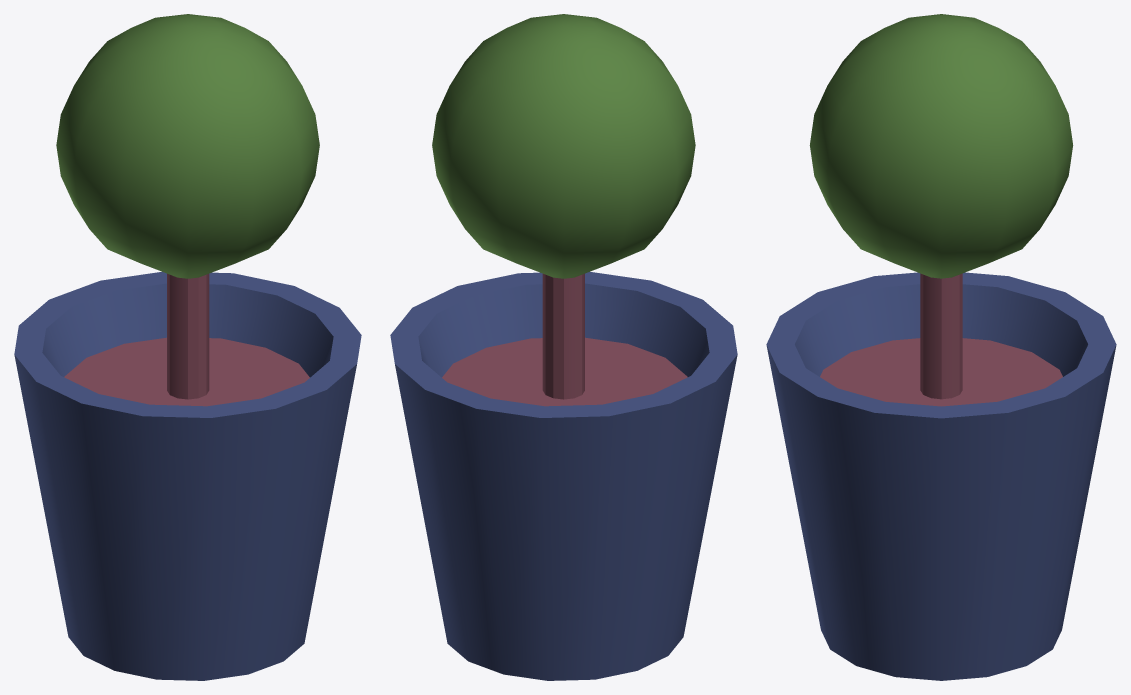
File: smallRoundPlant.fbx
3 views of the same model, side by side, from view 1: azimuth 30°, elevation 25°; view 2: azimuth 150°, elevation 25°; view 3: azimuth 270°, elevation 25° (orthographic).
Parts seen in each view (by area): view 1: smallPlant; view 2: smallPlant; view 3: smallPlant.
Part boxes in pixels (left/top/right/bottom): smallPlant: left=14, top=14, right=361, bottom=680; smallPlant: left=390, top=14, right=737, bottom=680; smallPlant: left=766, top=14, right=1116, bottom=680.
Size of the model in its own units: 0.1815 by 0.3456 by 0.1815.
